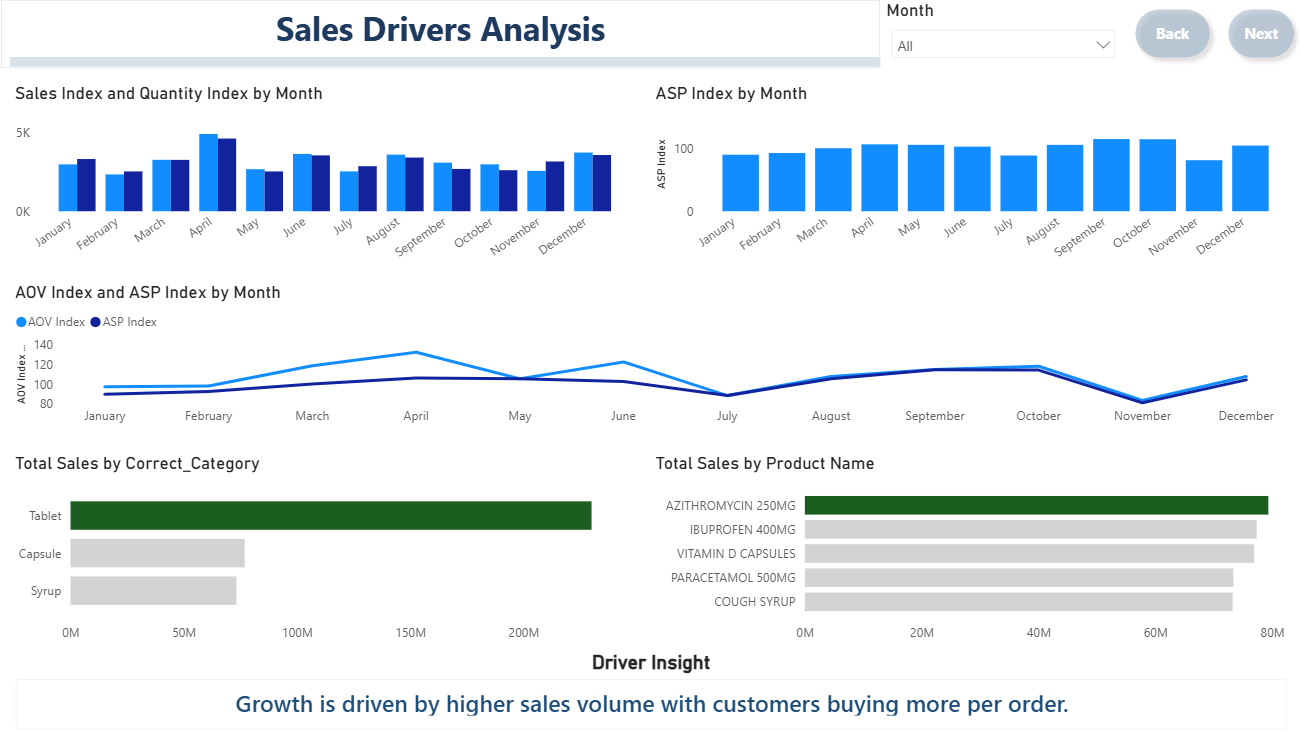

The dashboard page shown, as its layout file describes it:
{"tool":"powerbi","page":{"name":"Page 2","canvas":[1280,720],"ordinal":1},"visuals":[{"type":"textbox","box":[3.4,0,862,65.5],"z":0,"group":"g1"},{"type":"clusteredColumnChart","fields":{"Category":["DateTable.Date.Variation.Date Hierarchy.Month"],"Y":["Measures_Table.Sales Index","Measures_Table.Quantity Index"]},"box":[11.6,81.2,612.9,183.9],"z":0},{"type":"shape","box":[12.1,56.2,853.3,9.4],"z":1000,"group":"g1"},{"type":"clusteredColumnChart","fields":{"Category":["DateTable.Date.Variation.Date Hierarchy.Month"],"Y":["Measures_Table.ASP Index"]},"box":[639.4,81.2,629.5,183.9],"z":1000},{"type":"lineChart","fields":{"Category":["DateTable.Date.Variation.Date Hierarchy.Month"],"Y":["Measures_Table.AOV Index","Measures_Table.ASP Index"]},"box":[12,276,1257.3,146.7],"z":2000},{"type":"clusteredBarChart","fields":{"Category":["dim_Product.Correct_Category"],"Y":["Measures_Table.Total Sales"]},"box":[4,432,612,193.3],"z":3000},{"type":"clusteredBarChart","fields":{"Category":["dim_Product.Product Name"],"Y":["Measures_Table.Total Sales"]},"box":[641.3,422.7,625.3,193.3],"z":4000},{"type":"cardVisual","title":"Driver Insight","fields":{"Data":["Measures_Table.Driver Insight"]},"box":[12,625.3,1257.3,94.7],"z":5000},{"type":"actionButton","box":[1196.6,0,82.8,65.5],"z":6000},{"type":"actionButton","box":[1105.2,0,91.4,65.5],"z":7000},{"type":"slicer","title":"Month","fields":{"Values":["DateTable.Date.Variation.Date Hierarchy.Month"]},"box":[865.5,0,239.7,65.5],"z":8000},{"type":"group","id":"g1","title":"Group 1","box":[3.4,0,862.1,65.5],"z":9000}]}

Visuals, with their boxes in screenshot pixels (x1, y1, x2, y2), scaled from the page's 1280x720 canvas onto the 1300x732 screenshot:
textbox: <box>3,0,879,67</box>
clusteredColumnChart - DateTable.Date.Variation.Date Hierarchy.Month x Measures_Table.Sales Index: <box>12,83,634,270</box>
shape: <box>12,57,879,67</box>
clusteredColumnChart - DateTable.Date.Variation.Date Hierarchy.Month x Measures_Table.ASP Index: <box>649,83,1289,270</box>
lineChart - DateTable.Date.Variation.Date Hierarchy.Month x Measures_Table.AOV Index: <box>12,281,1289,430</box>
clusteredBarChart - dim_Product.Correct_Category x Measures_Table.Total Sales: <box>4,439,626,636</box>
clusteredBarChart - dim_Product.Product Name x Measures_Table.Total Sales: <box>651,430,1286,626</box>
"Driver Insight" cardVisual: <box>12,636,1289,731</box>
actionButton: <box>1215,0,1299,67</box>
actionButton: <box>1122,0,1215,67</box>
"Month" slicer: <box>879,0,1122,67</box>
"Group 1" group: <box>3,0,879,67</box>
